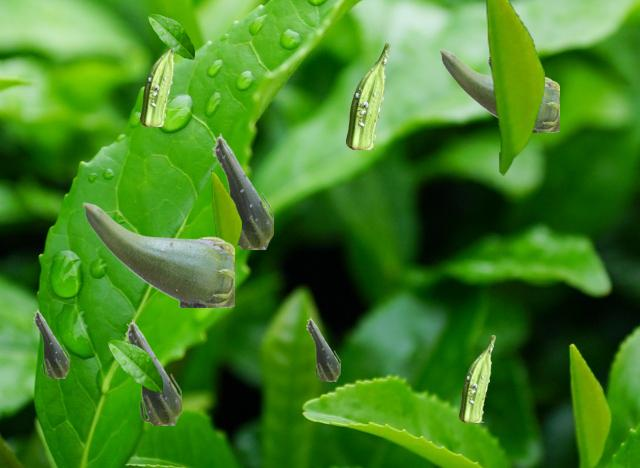okra: (82, 202, 233, 306), (439, 49, 558, 131), (212, 133, 272, 248), (125, 319, 180, 424), (346, 43, 389, 148), (459, 335, 494, 421), (140, 48, 174, 125), (33, 309, 68, 377), (306, 317, 339, 380)
